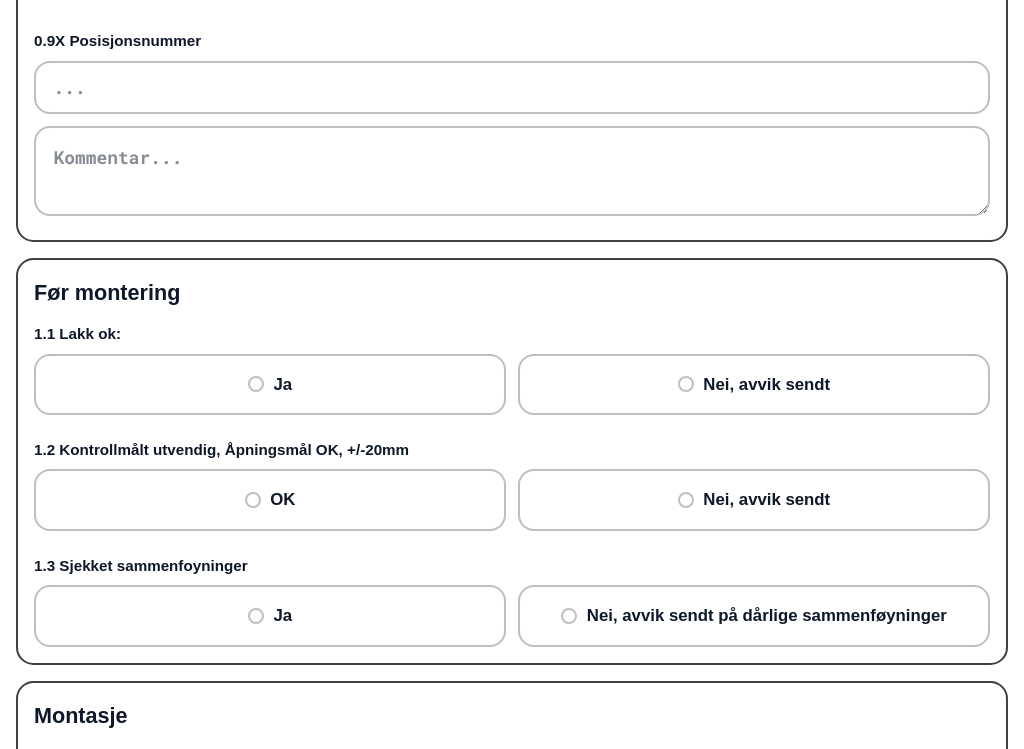
Test: KSMontasjeBrannprodukterScreen › renders and updates progress when selecting options
This screenshot has width=1024, height=749.
(page scrolled)
Click the button "Ja" below "1.1 Lakk ok:": x=256, y=384 [34,354,506,415]
(page scrolled)
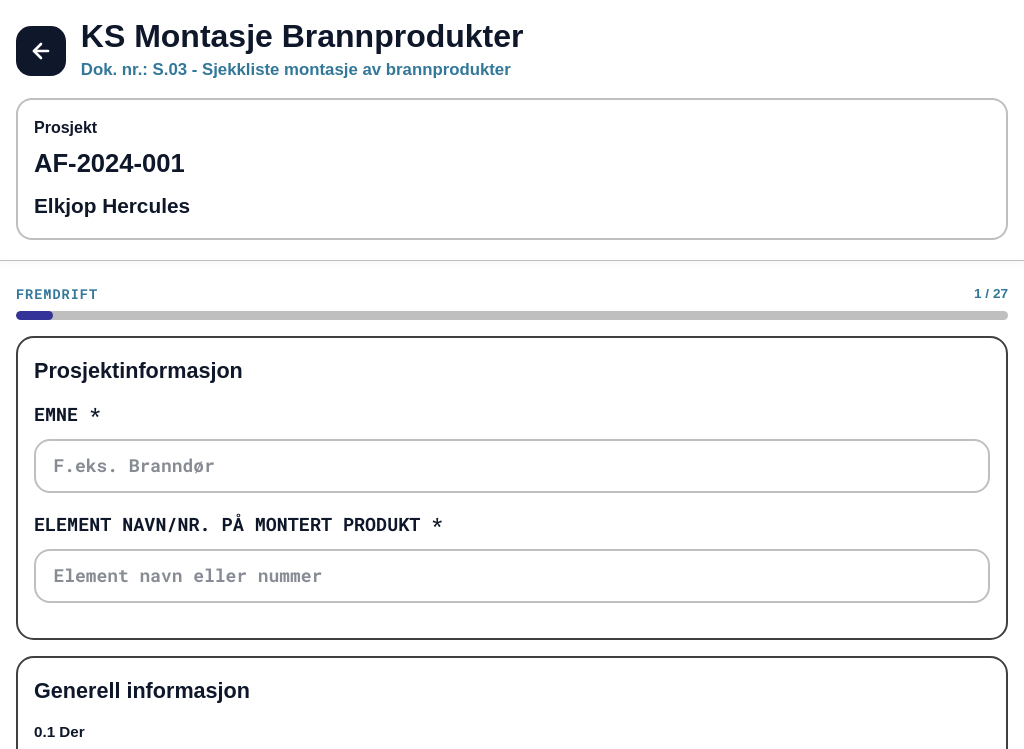
Now the text "1 / 27" is shown, box [974,284,1008,304]
